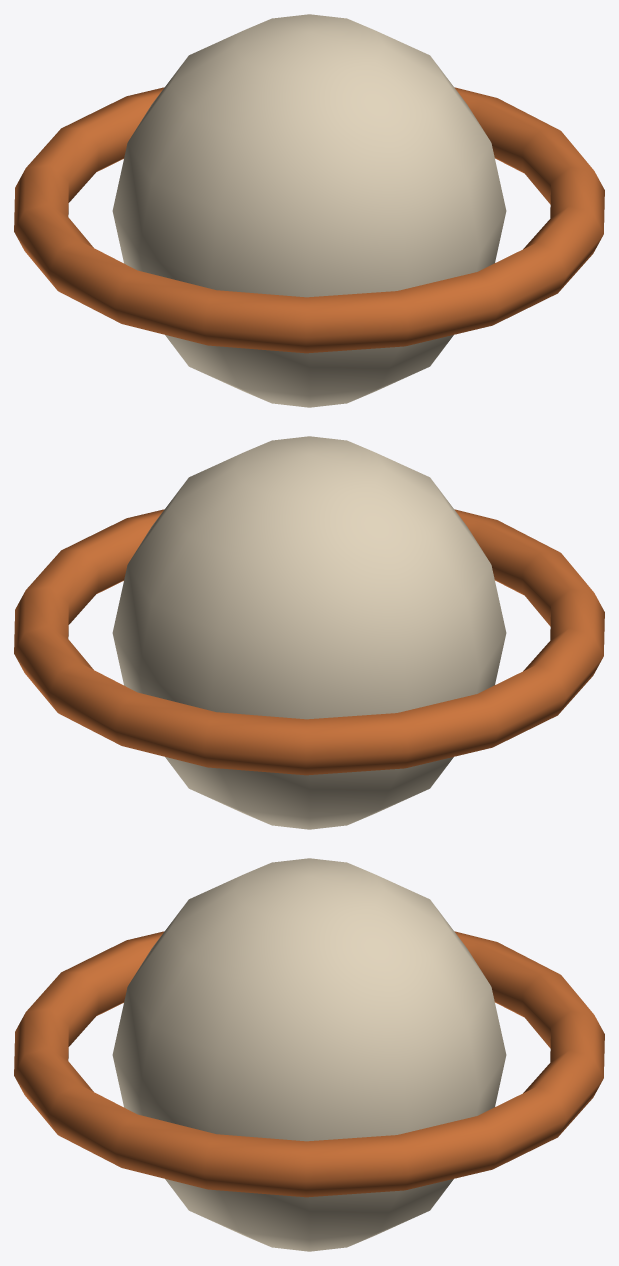
File: skill.glb
3 renders of one model, top to bottom at view 1: azimuth 30°, elevation 25°; view 2: azimuth 150°, elevation 25°; view 3: azimuth 270°, elevation 25°, orthographic.
Parts seen in each view (by area): view 1: skill_core, skill_ring; view 2: skill_core, skill_ring; view 3: skill_core, skill_ring.
Part boxes in pixels (x1,y1,x2,y2): skill_core: [112, 14, 506, 407]; skill_ring: [14, 87, 604, 353]; skill_core: [112, 436, 506, 829]; skill_ring: [14, 509, 604, 775]; skill_core: [112, 858, 506, 1251]; skill_ring: [14, 931, 604, 1197].
Size of the model in its own units: 0.73 by 0.48 by 0.7203.
